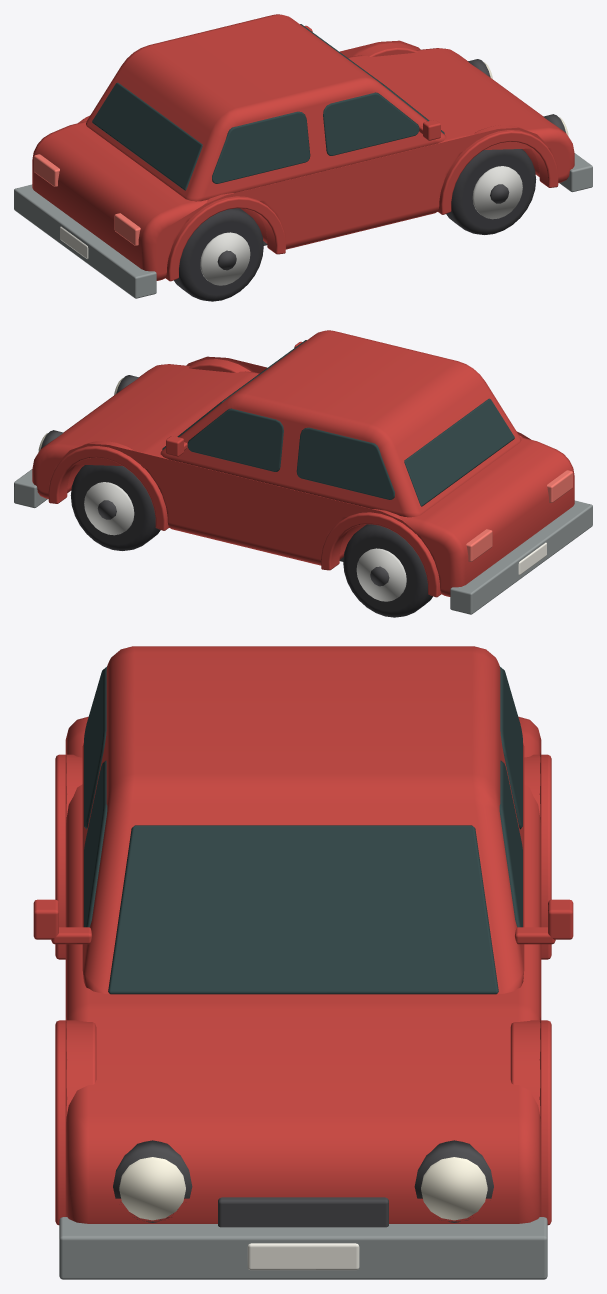
File: sedan_red.glb
3 views of the same model, one above another, from view 1: azimuth 30°, elevation 25°; view 2: azimuth 150°, elevation 25°; view 3: azimuth 270°, elevation 25° (orthographic). The views are drawn at different scales.
Visible parts, largest first — view 1: sedan_red_body, sedan_red_glass, sedan_red_trim, sedan_red_wheels, sedan_red_round; view 2: sedan_red_body, sedan_red_glass, sedan_red_trim, sedan_red_wheels, sedan_red_round; view 3: sedan_red_body, sedan_red_glass, sedan_red_trim, sedan_red_round.
Boxes of the visible parts, left/top/right/bottom form: sedan_red_body: left=32, top=14, right=574, bottom=280; sedan_red_glass: left=92, top=24, right=444, bottom=190; sedan_red_trim: left=14, top=25, right=592, bottom=298; sedan_red_wheels: left=174, top=149, right=536, bottom=301; sedan_red_round: left=200, top=59, right=568, bottom=285; sedan_red_body: left=32, top=330, right=574, bottom=596; sedan_red_glass: left=162, top=340, right=514, bottom=506; sedan_red_trim: left=14, top=341, right=592, bottom=614; sedan_red_wheels: left=70, top=465, right=432, bottom=617; sedan_red_round: left=38, top=375, right=406, bottom=601; sedan_red_body: left=65, top=646, right=541, bottom=1223; sedan_red_glass: left=84, top=666, right=522, bottom=994; sedan_red_trim: left=33, top=754, right=573, bottom=1279; sedan_red_round: left=113, top=1140, right=493, bottom=1222.
Bounding box in the file's own units: 4.16 × 1.53 × 2.11.
